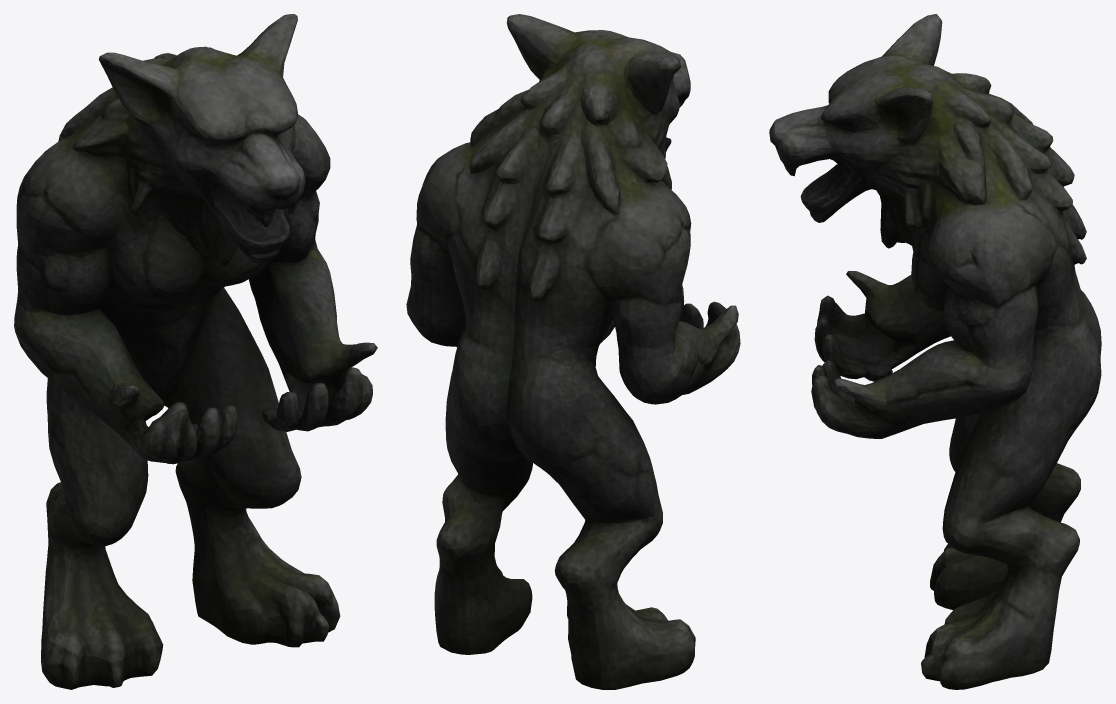
The model's file is wolfstatue.glb.
3 views of the same model, side by side, from view 1: azimuth 30°, elevation 25°; view 2: azimuth 150°, elevation 25°; view 3: azimuth 270°, elevation 25° (orthographic). The views are drawn at different scales.
Visible parts, largest first — view 1: world; view 2: world; view 3: world.
Boxes of the visible parts, x1=… form: world: x1=14, y1=14, x2=377, y2=689; world: x1=406, y1=14, x2=740, y2=689; world: x1=769, y1=14, x2=1101, y2=689.
Bounding box in the file's own units: 0.4794 × 0.9986 × 0.5232.
Materials: 1 (1 with a texture image).
